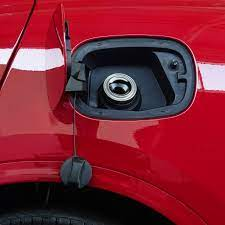open: (68, 31, 198, 125)
